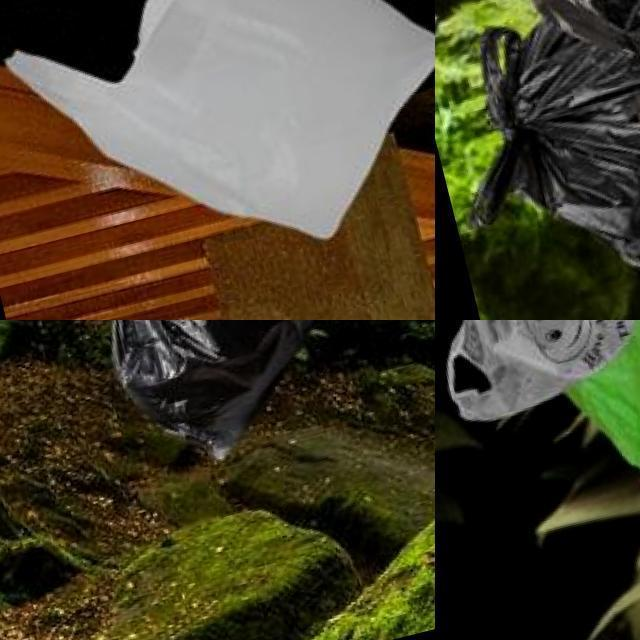waste: (0, 0, 435, 293), (456, 0, 640, 320), (40, 320, 379, 482), (548, 320, 640, 523), (435, 320, 640, 410), (435, 0, 640, 81)
